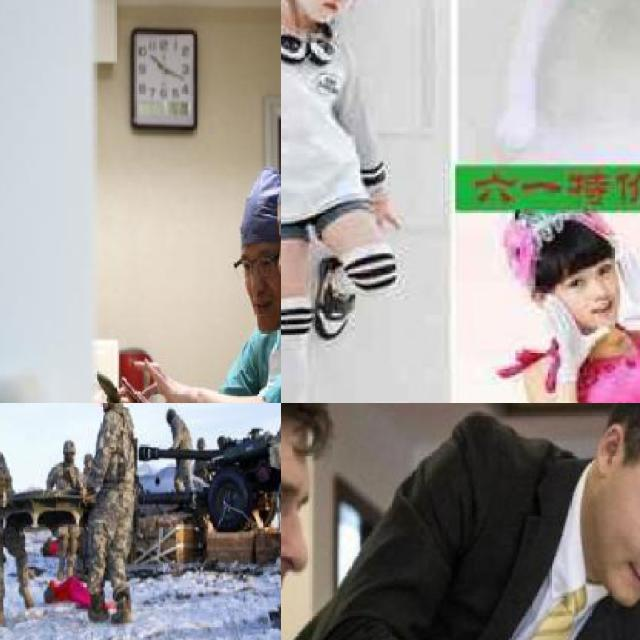No_Ear-Protection: (593, 418, 627, 482)
face_nomask: (589, 439, 640, 602), (236, 248, 281, 333), (289, 0, 360, 28), (268, 206, 281, 299)
glasses: (230, 253, 277, 279)
hand_glove: (544, 290, 610, 380), (608, 240, 640, 329)
hand_noglove: (131, 357, 195, 403), (369, 197, 406, 230), (127, 385, 193, 403), (105, 383, 148, 403), (81, 486, 88, 504), (0, 492, 8, 507)
head_helmet: (59, 443, 76, 461)
head_nohelmet: (509, 212, 608, 280), (236, 174, 281, 256)
person: (294, 403, 640, 640), (281, 0, 432, 403), (496, 207, 640, 403), (53, 403, 162, 625), (0, 415, 48, 626), (157, 403, 206, 495), (259, 415, 281, 581)
shoes: (303, 253, 363, 344)
